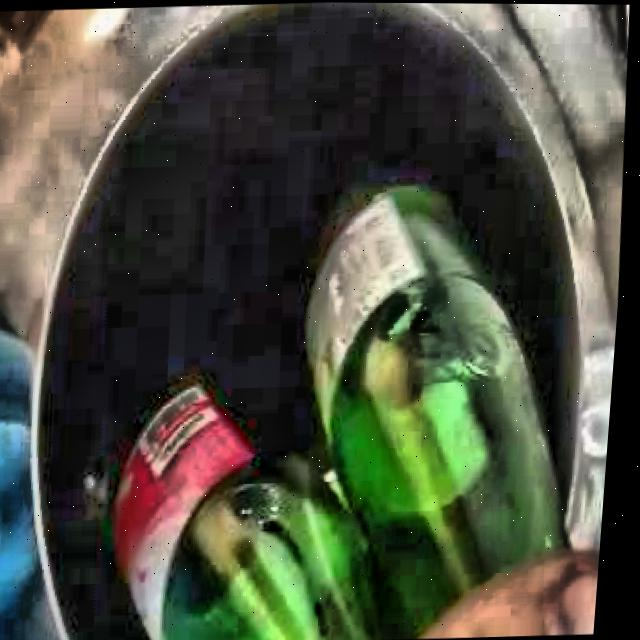glass: (132, 188, 574, 640)
